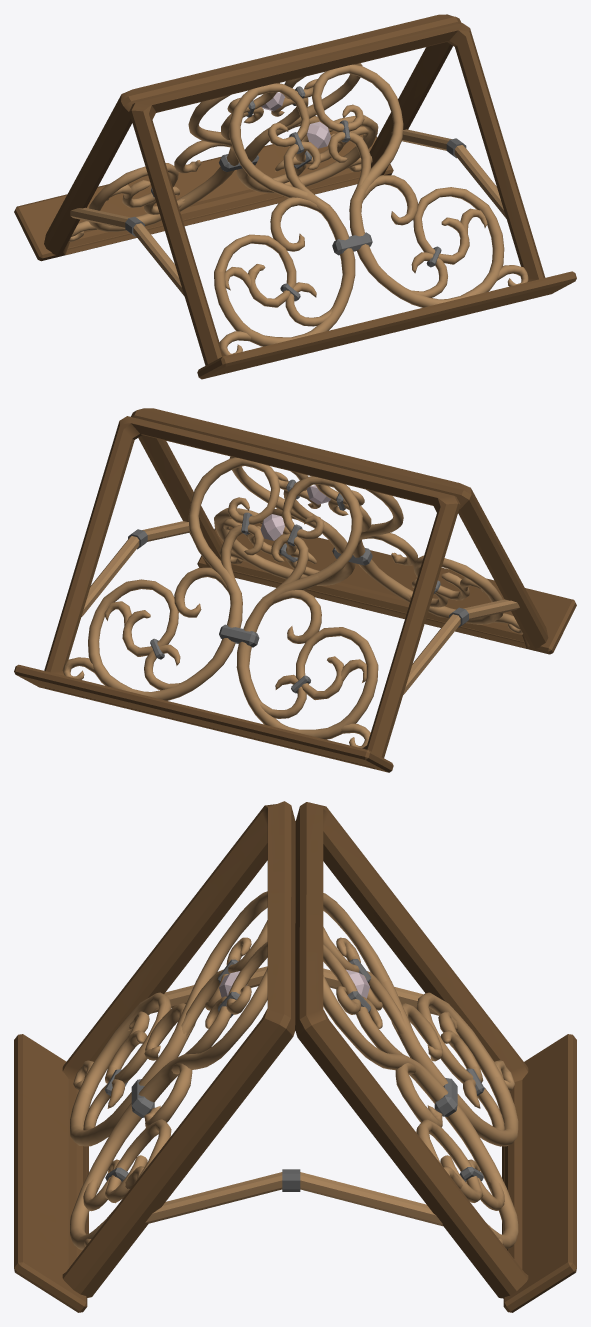
Rendered from SRBookStand.fbx.
3 views of the same model, one above another, from view 1: azimuth 30°, elevation 25°; view 2: azimuth 150°, elevation 25°; view 3: azimuth 270°, elevation 25° (orthographic). The views are drawn at different scales.
Visible parts, largest first — view 1: BookStand1; view 2: BookStand1; view 3: BookStand1.
Part boxes in pixels (left/top/right/bottom): BookStand1: left=14, top=14, right=576, bottom=379; BookStand1: left=14, top=408, right=576, bottom=772; BookStand1: left=14, top=801, right=576, bottom=1312.
Bounding box in the file's own units: 0.6734 × 0.3951 × 0.6932.
